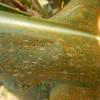Corn rust leaf: (0, 2, 99, 91)
